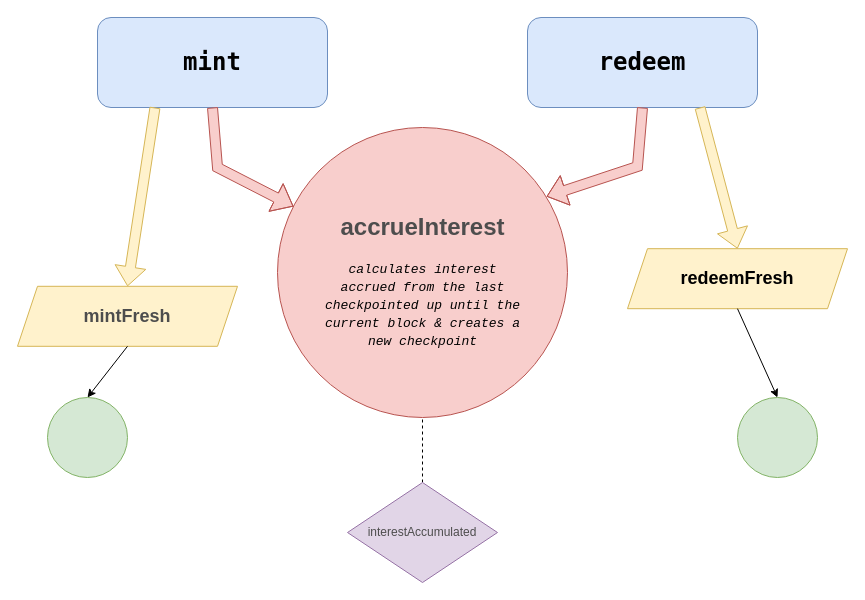
Image size: 865x600. Some labels were removed from this diagram. Here are the shapes that lost their labels. From the top down, the centre of each, then its label:
the point at 87,437: cUSDC
the point at 777,437: USDC
